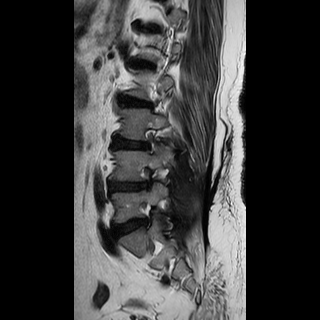LFS1: (136, 123, 166, 160)
LFS2: (132, 162, 161, 198)
